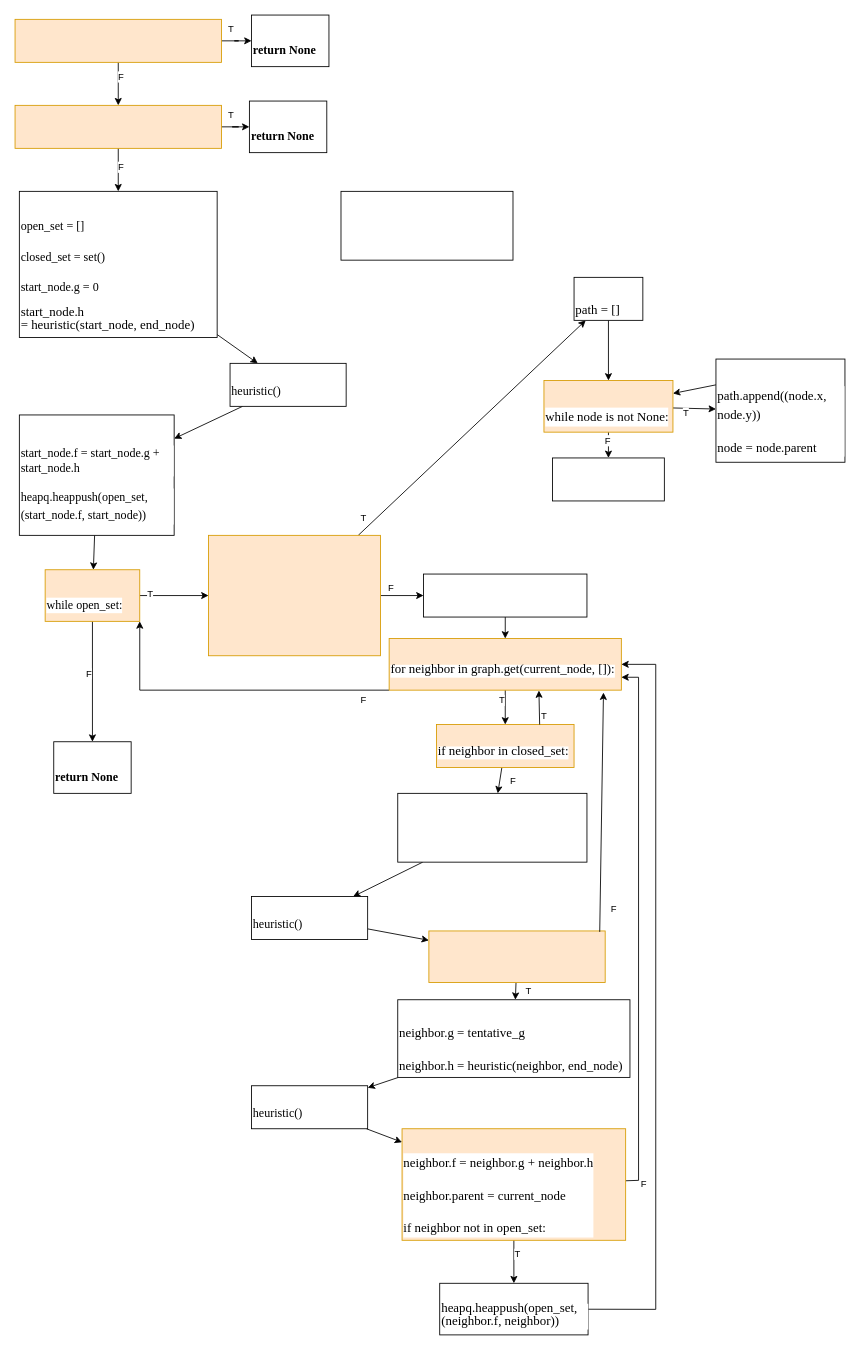
Some shapes in this 860 by 1350 pixel diagram are drawn without their labels. The centre of each missing label's shape, as x and y in pixels:
"closed_set.add(current_node)" goes at point (505, 595).
"current_f, current_node = heapq.heappop(open_set) if current_node == end_node:" goes at point (294, 595).
"Func heuristic: return sqrt((a.x - b.x)**2 + (a.y - b.y)**2)" goes at point (426, 225).
"if tentative_g < neighbor.g:" goes at point (516, 956).
"if(isinstance(end_node, Node) == False)" goes at point (117, 126).
"if(isinstance(start_node, Node) == False)" goes at point (117, 40).
"return path[::-1]" goes at point (608, 479).
"tentative_g = current_node.g + heuristic(current_node, neighbor)" goes at point (492, 827).
